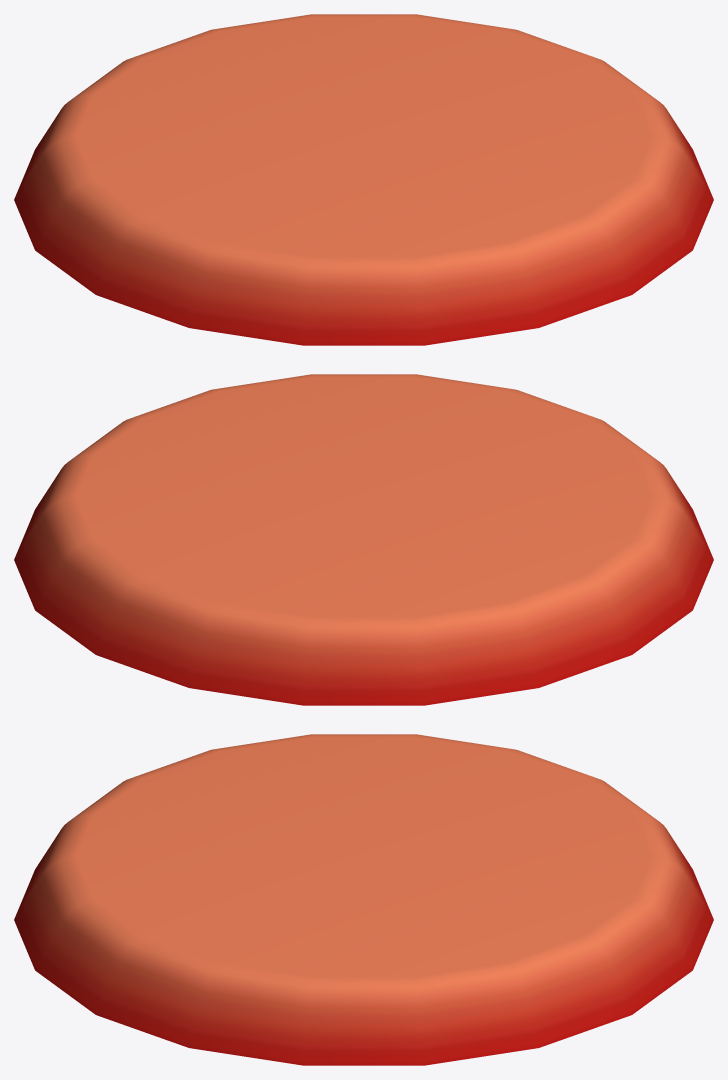
The model's file is enemy_stand.fbx.
The picture shows the model from 3 angles, top to bottom: view 1: azimuth 30°, elevation 25°; view 2: azimuth 150°, elevation 25°; view 3: azimuth 270°, elevation 25°; orthographic projection.
Visible parts, largest first — view 1: enemy; view 2: enemy; view 3: enemy.
Boxes of the visible parts, left/top/right/bottom form: enemy: left=14, top=14, right=713, bottom=345; enemy: left=14, top=374, right=713, bottom=705; enemy: left=14, top=734, right=713, bottom=1065.
Bounding box in the file's own units: 1.97 × 0.1976 × 2.
